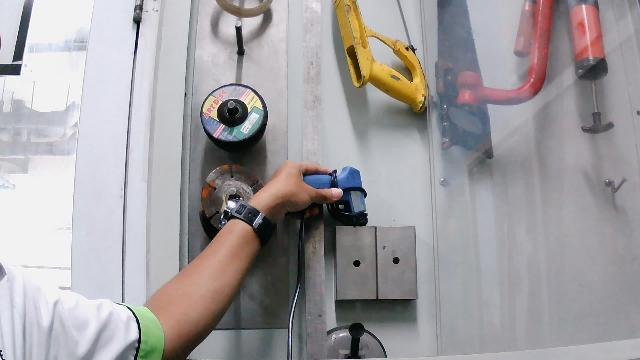solder_electrical: (273, 147, 373, 240)
